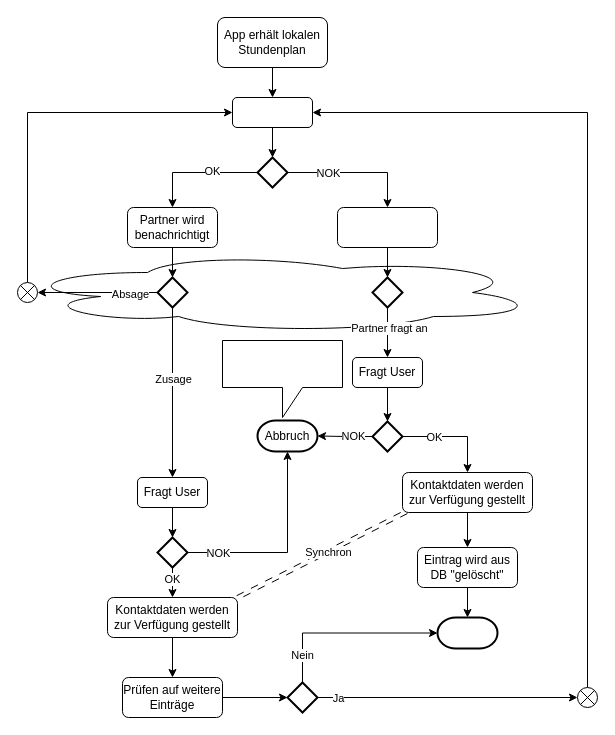
Image size: 615x735. Some labels were removed from this diagram. Each missing label, with the box of its shape:
Ende: (436, 616, 498, 649)
Jeweils anderer User wird in Eintrag "blacklisted": (222, 340, 342, 418)
Partnersuche: (232, 96, 312, 128)
Stundenplan wird hochgeladen: (336, 206, 438, 248)
